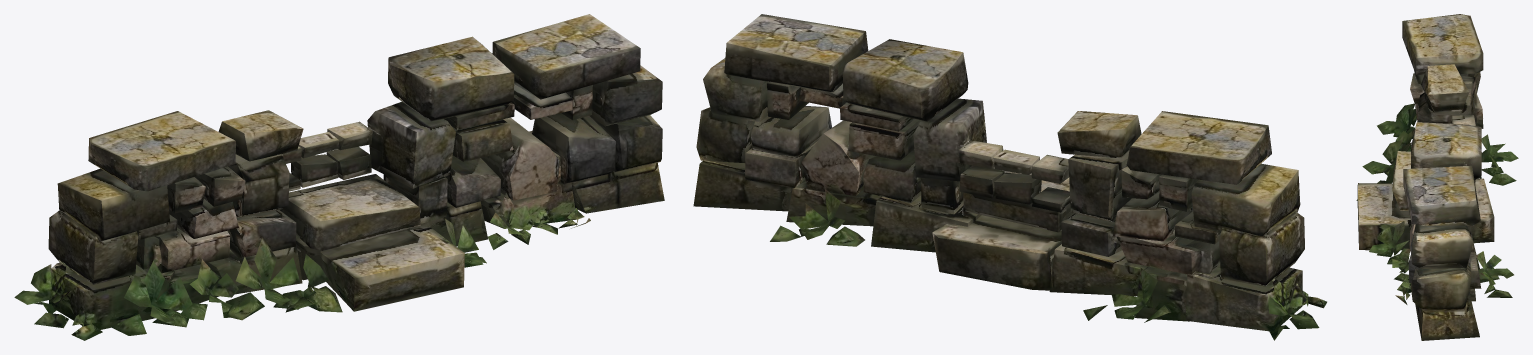
Rendered from act1_kit_v1_squeeze_stile.glb.
3 views of the same model, side by side, from view 1: azimuth 30°, elevation 25°; view 2: azimuth 150°, elevation 25°; view 3: azimuth 270°, elevation 25° (orthographic). The views are drawn at different scales.
Visible parts, largest first — view 1: A08_2_squeeze_stile; view 2: A08_2_squeeze_stile; view 3: A08_2_squeeze_stile.
Part boxes in pixels (x1=…): A08_2_squeeze_stile: x1=14, y1=14, x2=664, y2=340; A08_2_squeeze_stile: x1=693, y1=14, x2=1326, y2=340; A08_2_squeeze_stile: x1=1356, y1=14, x2=1518, y2=340.
Bounding box in the file's own units: 1 × 0.279 × 0.3055.
1 material, 1 textured.
